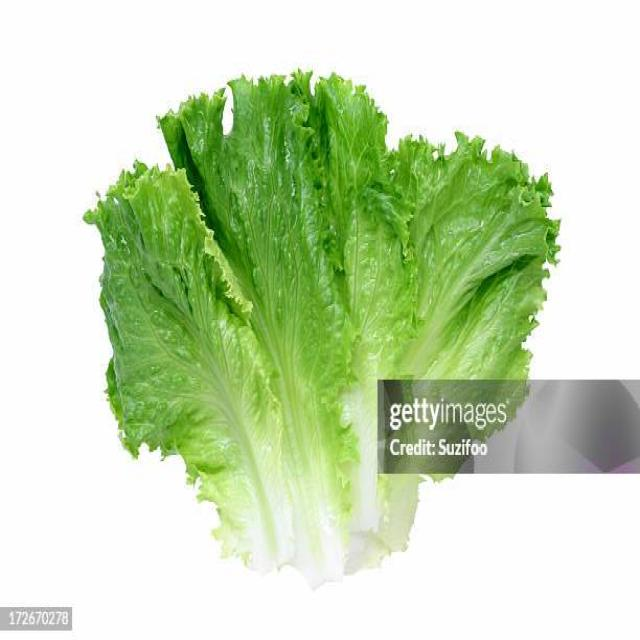lettuce: (81, 66, 562, 585)
